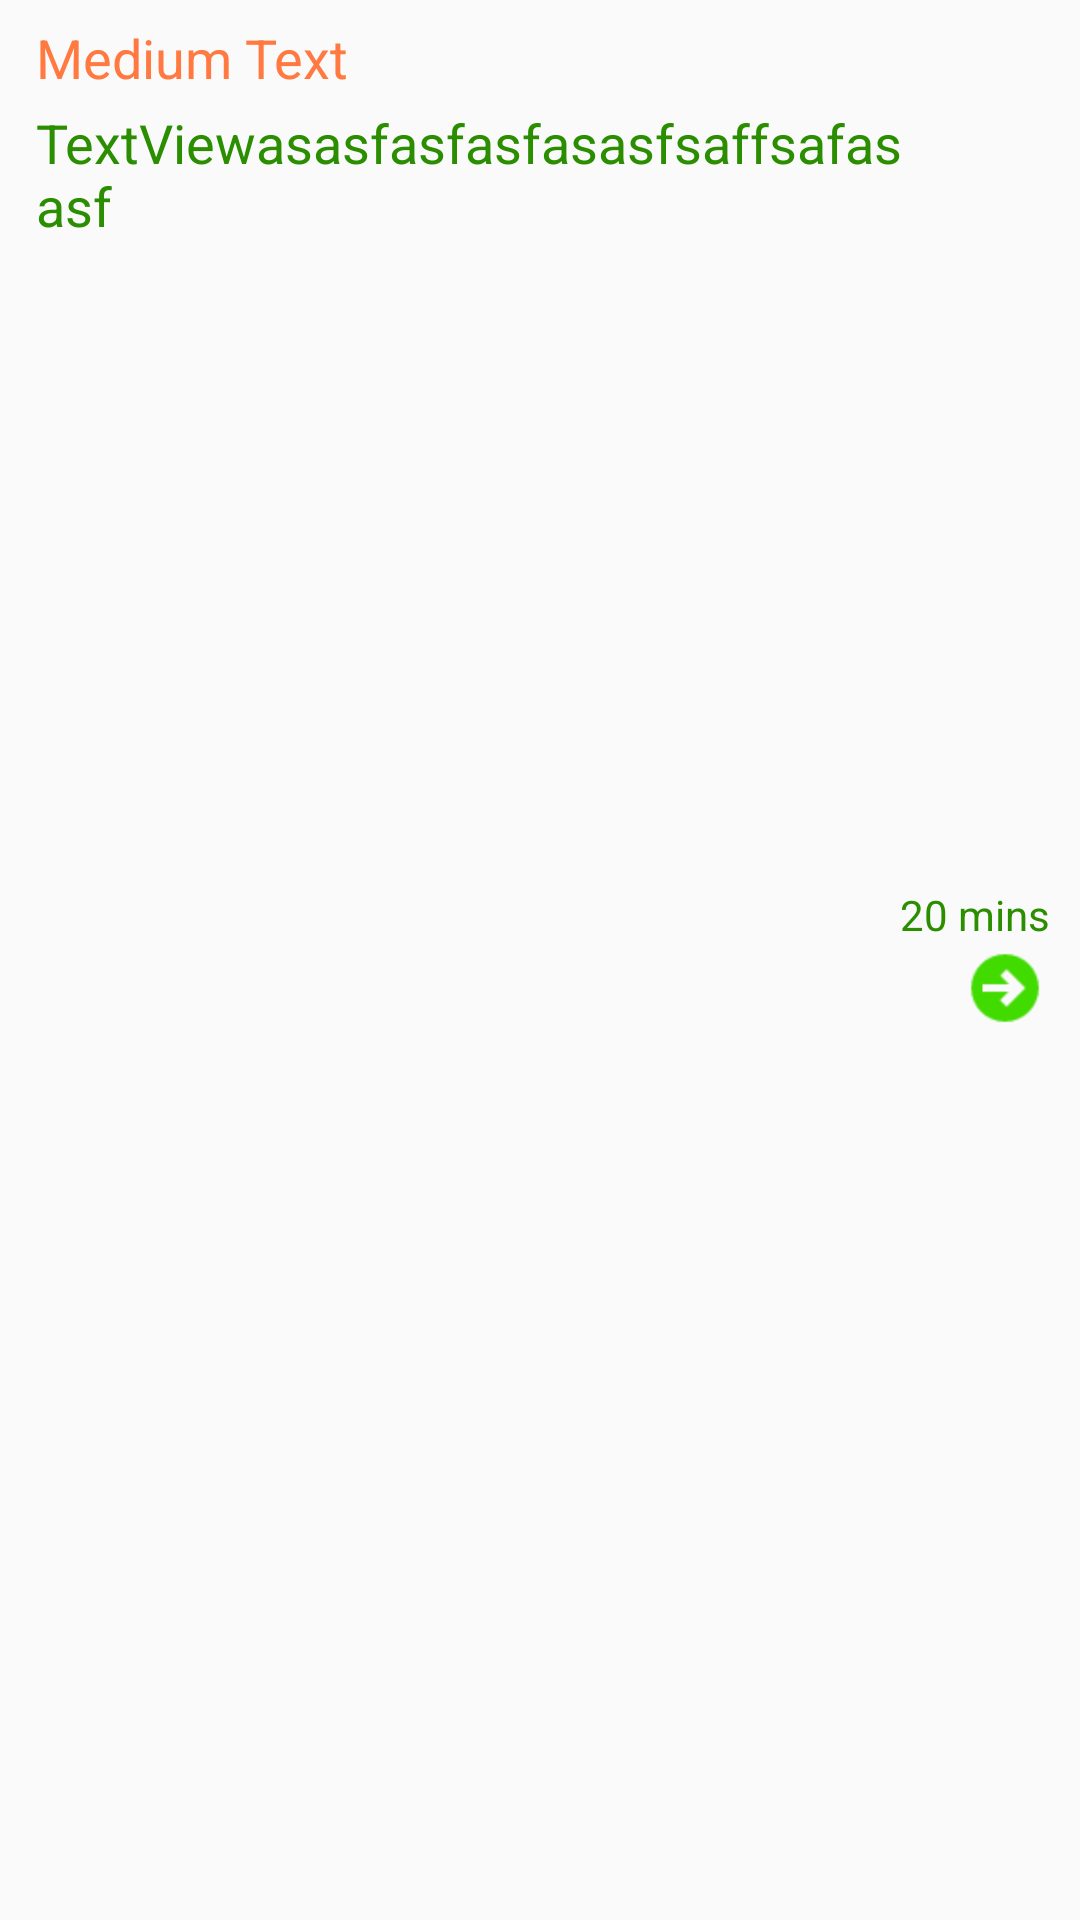

Icon bounding boxes for this 1080*1920 phone screenshot, format (x1, y1, x2, y2):
side arrow: (970, 953, 1040, 1023)
